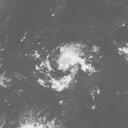cyclone: (49, 44, 95, 92)
